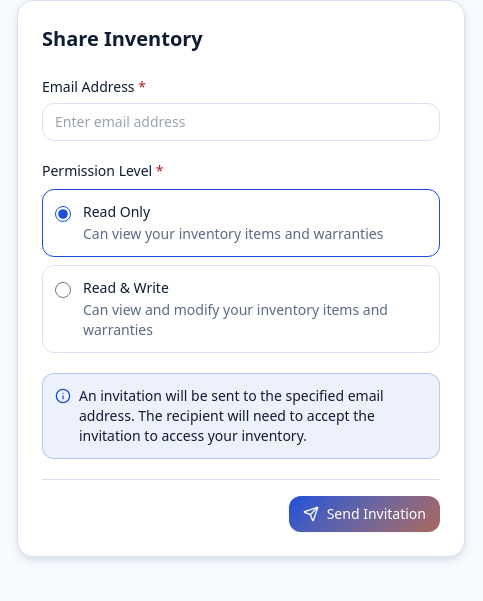
Test: <ShareForm /> › rejects a malformed email
Type "not-an-email" into the field labelled "Email Address *" at [241, 122], box [42, 103, 440, 141]
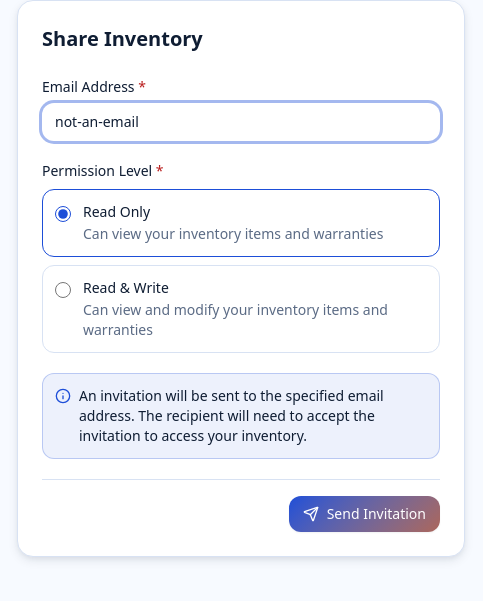
Click the button "Send Invitation" at [364, 514], box [289, 496, 440, 532]
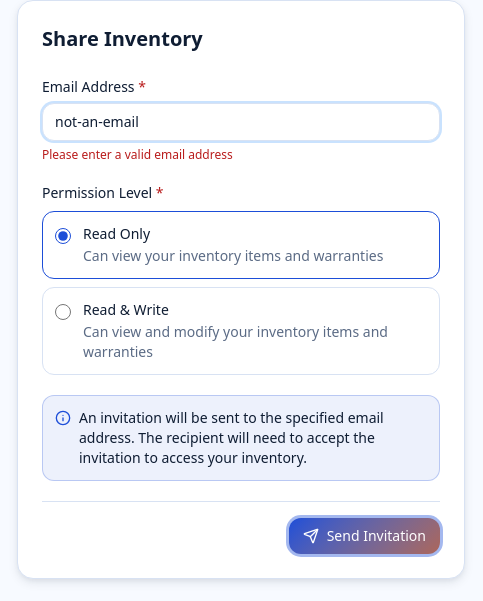
Result: the text "Please enter a valid email address" is shown at [42, 146, 233, 163]
